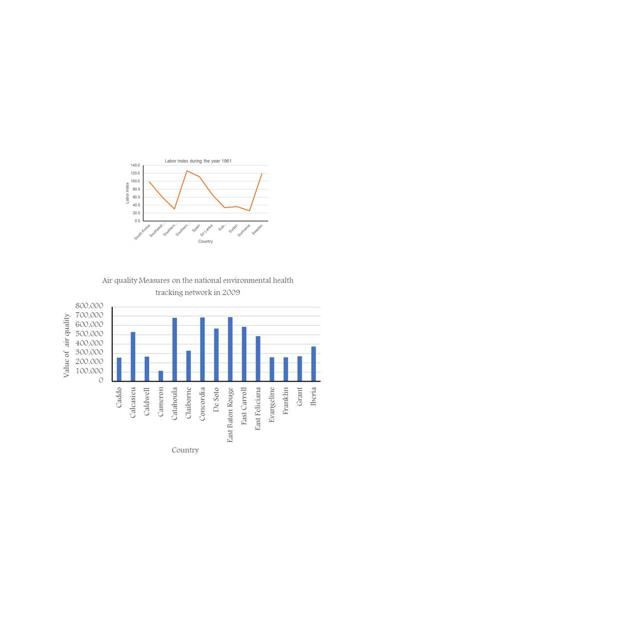Graph: (57, 270, 326, 459), (125, 157, 271, 244)
